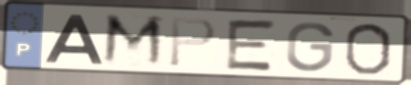A: (41, 12, 106, 66)
E: (222, 17, 281, 74)
G: (283, 20, 337, 74)
M: (99, 12, 167, 70)
O: (341, 21, 395, 77)
P: (167, 16, 219, 69)
